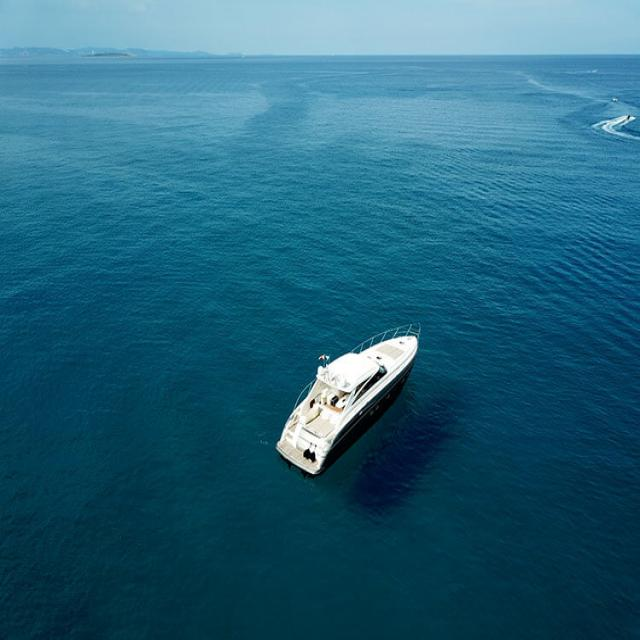ship: (270, 298, 425, 486)
